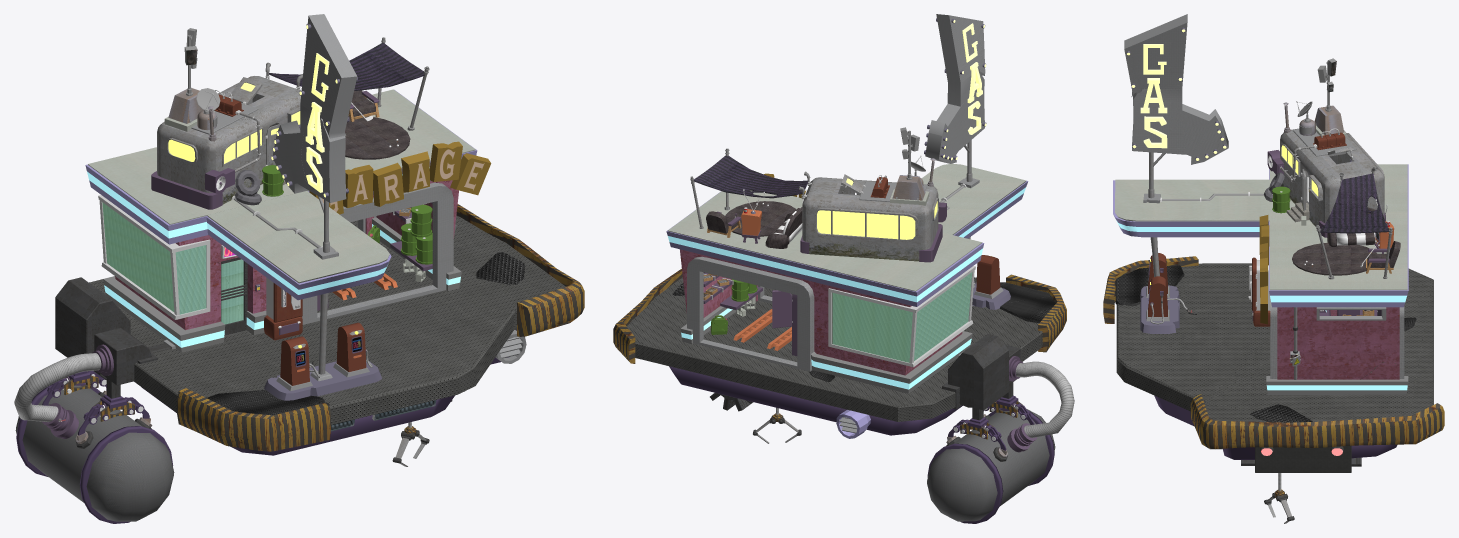
Rendered from gas.glb.
3 views of the same model, side by side, from view 1: azimuth 30°, elevation 25°; view 2: azimuth 150°, elevation 25°; view 3: azimuth 270°, elevation 25° (orthographic). The views are drawn at different scales.
Parts seen in each view (by area): view 1: Object_46, Object_49, Object_37, Object_6, Object_27, Object_57, Object_20, Object_31, Object_51, Object_55, Object_38, Object_32 (+21 smaller); view 2: Object_46, Object_37, Object_49, Object_6, Object_20, Object_51, Object_31, Object_38, Object_57, Object_44, Object_32, Object_27 (+20 smaller); view 3: Object_46, Object_49, Object_37, Object_27, Object_44, Object_31, Object_38, Object_35, Object_17, Object_54, Object_47, Object_76 (+17 smaller).
Boxes of the visible parts, x1,y1,x2,y2 form: Object_46: [89, 215, 565, 424]; Object_49: [88, 89, 475, 283]; Object_37: [163, 14, 526, 391]; Object_6: [15, 385, 174, 521]; Object_27: [64, 204, 584, 451]; Object_57: [49, 257, 464, 463]; Object_20: [102, 202, 243, 324]; Object_31: [157, 76, 300, 203]; Object_51: [16, 329, 525, 523]; Object_55: [309, 141, 491, 214]; Object_38: [85, 90, 477, 300]; Object_32: [42, 90, 432, 438]; Object_46: [627, 277, 1042, 421]; Object_37: [687, 14, 1003, 433]; Object_49: [668, 163, 1026, 316]; Object_6: [927, 409, 1055, 521]; Object_20: [832, 272, 972, 362]; Object_51: [669, 366, 1054, 523]; Object_31: [802, 174, 938, 260]; Object_38: [666, 180, 1028, 438]; Object_57: [710, 191, 1020, 461]; Object_44: [680, 249, 962, 375]; Object_32: [703, 202, 1037, 452]; Object_27: [613, 268, 1066, 439]; Object_46: [1116, 263, 1433, 422]; Object_49: [1115, 125, 1407, 290]; Object_37: [1124, 14, 1404, 449]; Object_27: [1103, 256, 1444, 497]; Object_44: [1277, 307, 1399, 379]; Object_31: [1280, 128, 1384, 225]; Object_38: [1113, 164, 1408, 307]; Object_35: [1318, 173, 1389, 233]; Object_17: [1148, 133, 1392, 523]; Object_54: [1255, 445, 1351, 472]; Object_47: [1115, 265, 1416, 422]; Object_76: [1292, 242, 1376, 275].
Bounding box in the file's own units: 55.48 × 54.48 × 38.11.
Materials: 74 (47 with a texture image).
